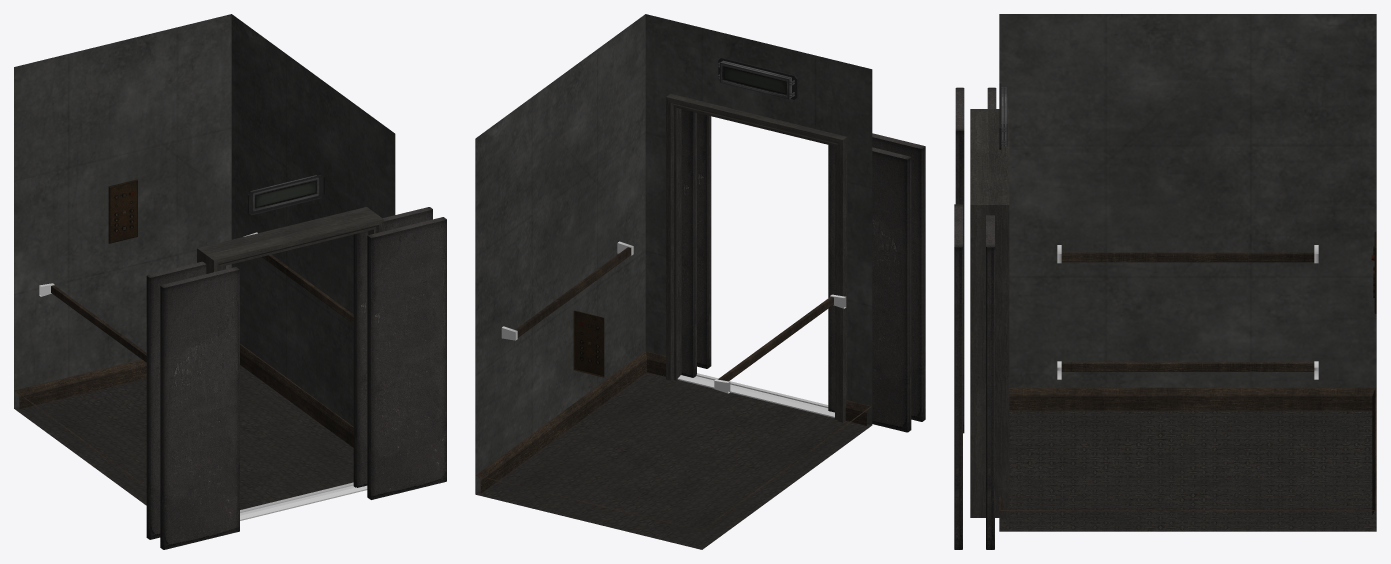
Rendered from elevator_1.obj.
The picture shows the model from 3 angles, left to right: view 1: azimuth 30°, elevation 25°; view 2: azimuth 150°, elevation 25°; view 3: azimuth 270°, elevation 25°; orthographic projection. The views are drawn at different scales.
Visible parts, largest first — view 1: elevator_1, elevator_door_1_a, elevator_door_1_b, elevator_door_2_b, elevator_door_2_a; view 2: elevator_1, elevator_door_2_b, elevator_door_1_b, elevator_door_2_a, elevator_door_1_a; view 3: elevator_1, elevator_door_1_a, elevator_door_2_a, elevator_door_1_b.
Boxes of the visible parts, x1,y1,x2,y2 form: elevator_1: [14, 14, 395, 520]; elevator_door_1_a: [367, 217, 446, 499]; elevator_door_1_b: [160, 267, 239, 549]; elevator_door_2_b: [146, 261, 225, 539]; elevator_door_2_a: [353, 207, 432, 487]; elevator_1: [475, 14, 872, 549]; elevator_door_2_b: [828, 145, 911, 432]; elevator_door_1_b: [872, 133, 925, 421]; elevator_door_2_a: [681, 109, 696, 377]; elevator_door_1_a: [697, 113, 711, 368]; elevator_1: [970, 14, 1376, 531]; elevator_door_1_a: [954, 204, 962, 549]; elevator_door_2_a: [986, 215, 994, 549]; elevator_door_1_b: [955, 87, 964, 433].
Bounding box in the file's own units: 2.6 × 3 × 2.91.
